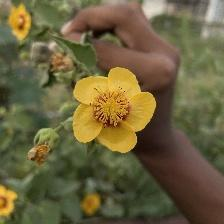indian mallow: (73, 67, 159, 159)
